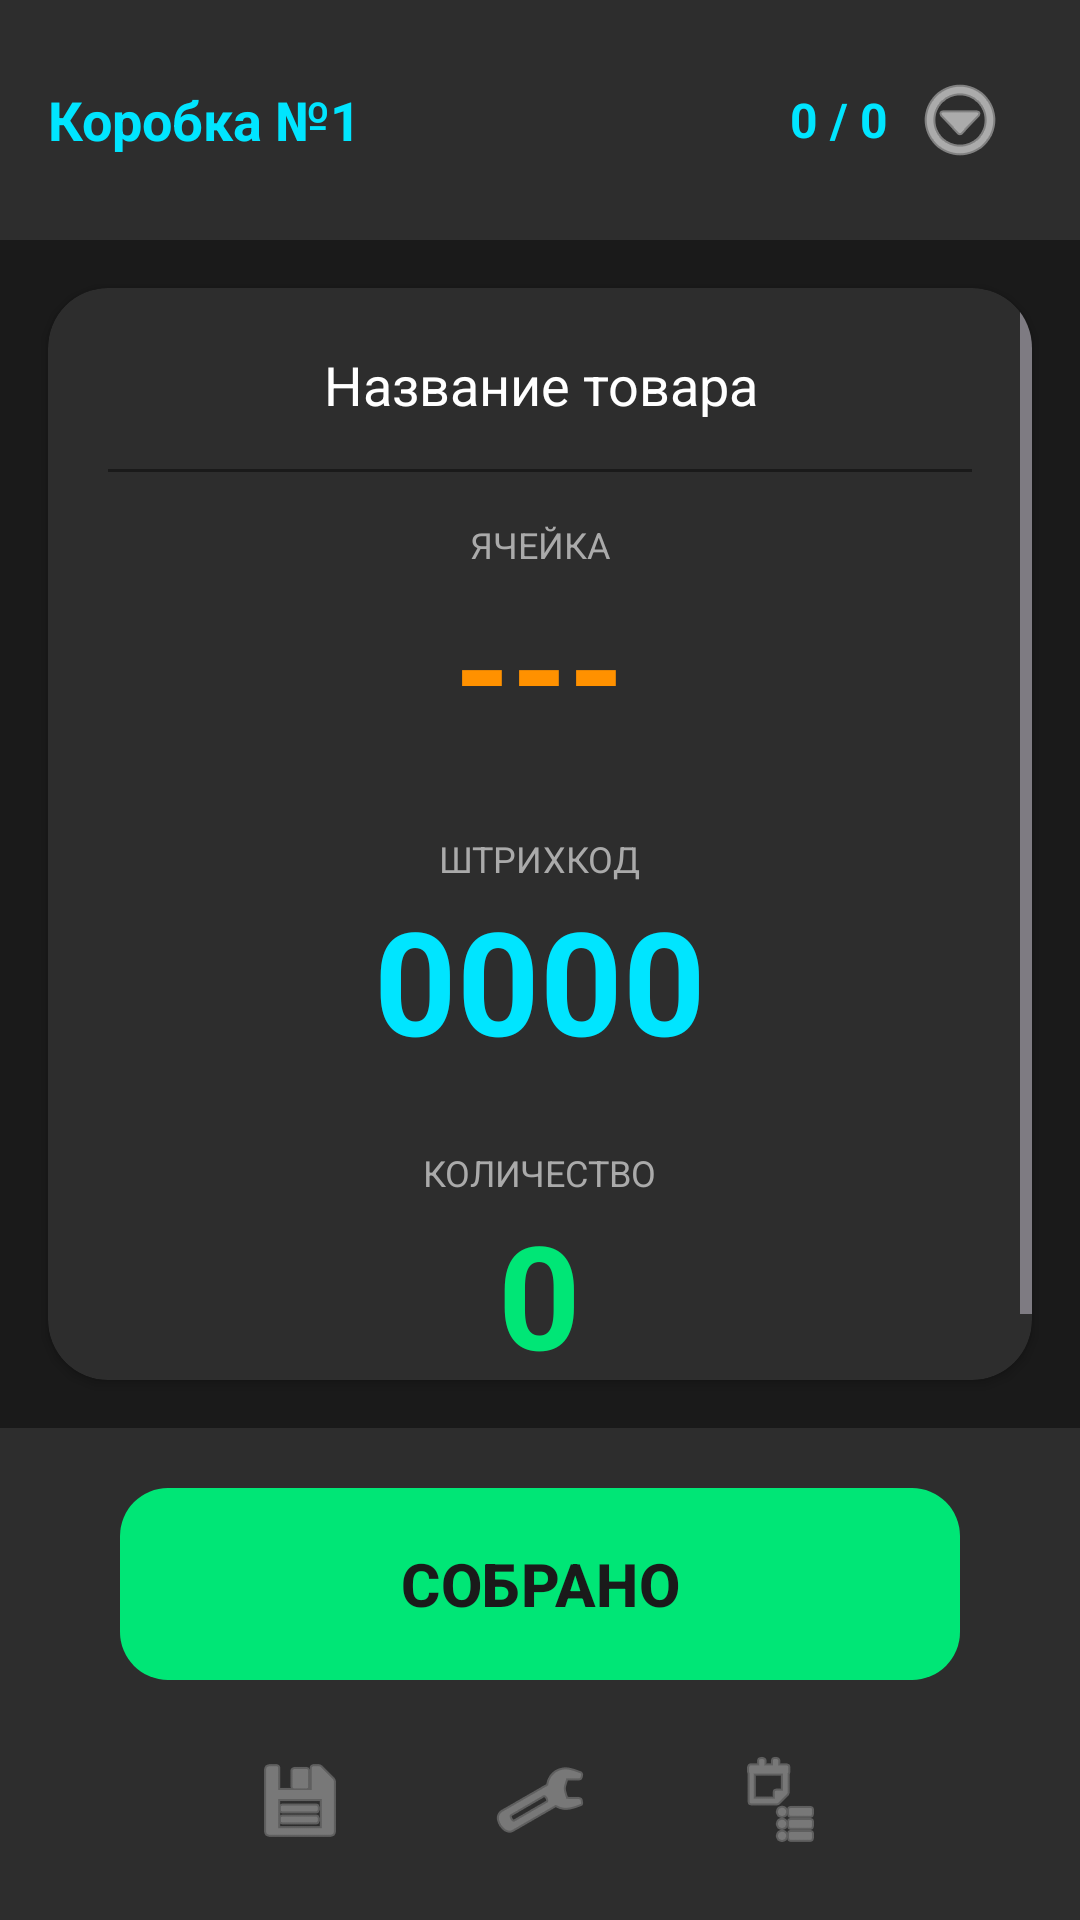

Icon click points for this 1080x1920 phone screenshot, format (x=x, y=y):
Меню: (x=960, y=120)
Сохранить: (x=300, y=1800)
Список: (x=780, y=1799)
